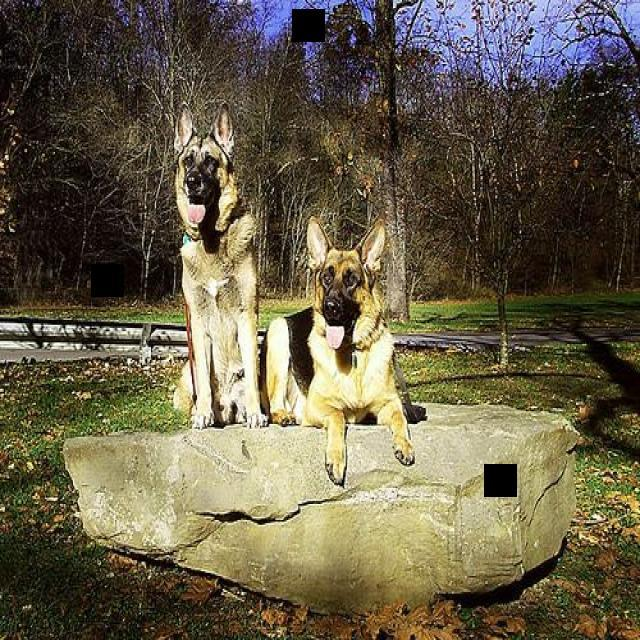adult_dog: (263, 208, 416, 491), (169, 100, 272, 429)
